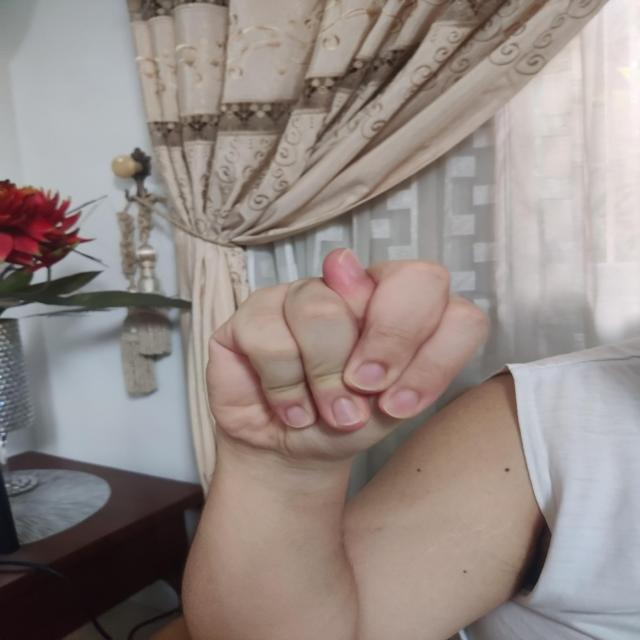N: (206, 247, 491, 460)
